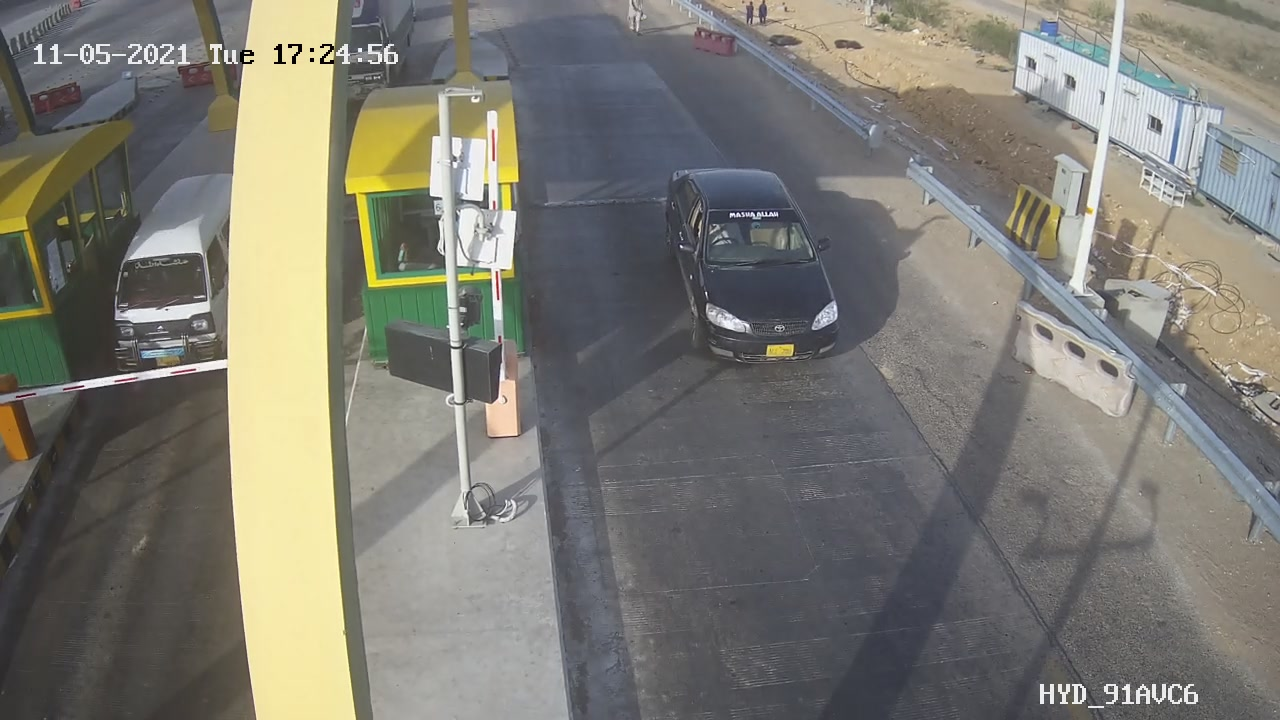F1: (648, 146, 863, 394)
